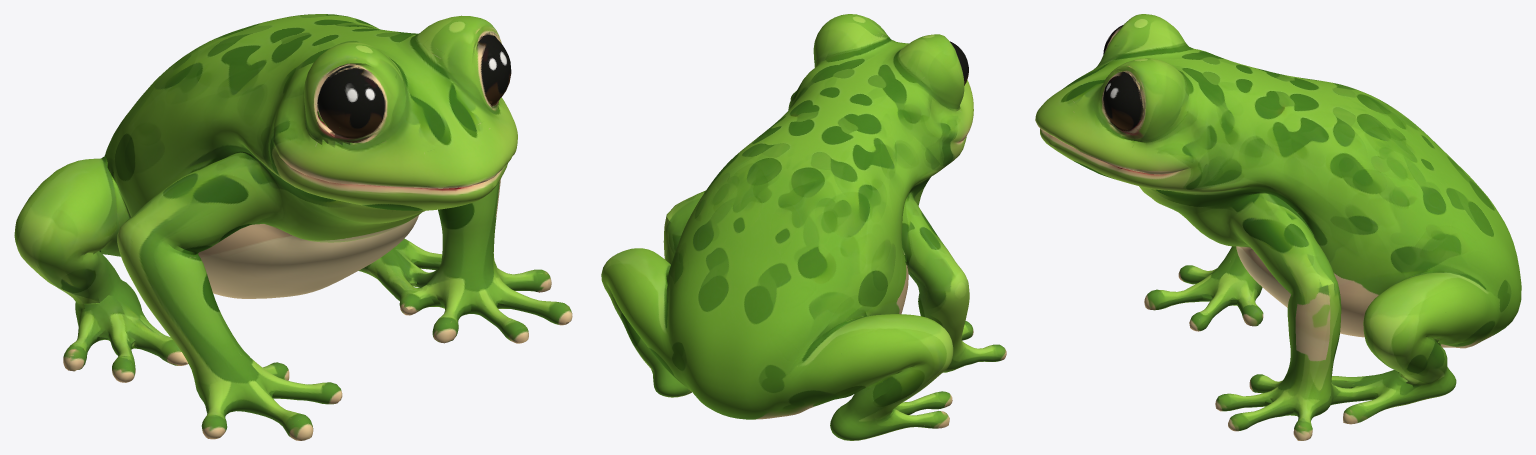
File: frog_ai_refined.glb
The picture shows the model from 3 angles, left to right: view 1: azimuth 30°, elevation 25°; view 2: azimuth 150°, elevation 25°; view 3: azimuth 270°, elevation 25°; orthographic projection. The views are drawn at different scales.
Size of the model in its own units: 1.71 by 1.33 by 1.9.
Materials: 1 (1 with a texture image).
